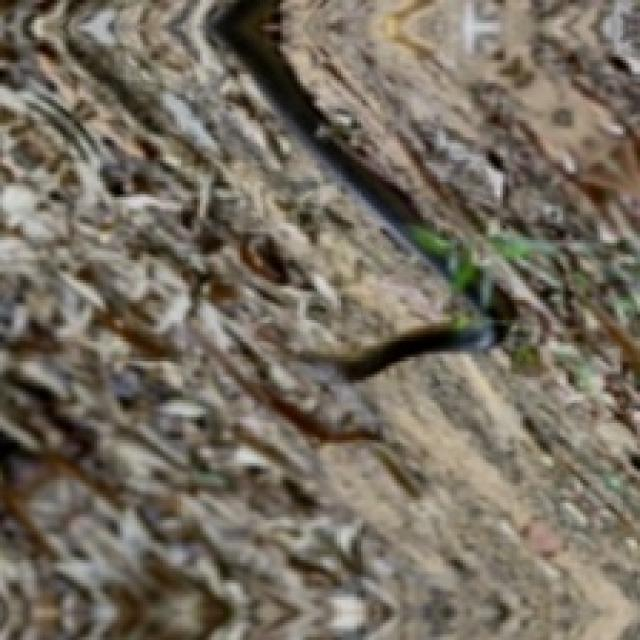king cobra: (0, 0, 637, 637), (0, 0, 514, 637), (460, 117, 580, 229), (577, 209, 637, 277)
